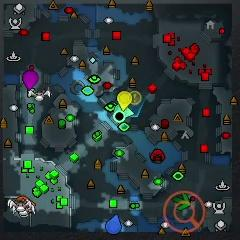Other: (129, 90, 142, 105)
p1: (106, 213, 122, 234)
p2: (114, 104, 135, 118)
p2Clone: (113, 111, 126, 123)
p3: (23, 70, 38, 90)
p4: (117, 90, 131, 111)
p5: (17, 196, 37, 206)
x4: (173, 193, 190, 210)
